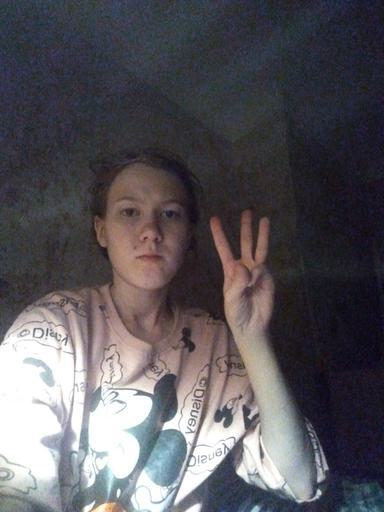three: (208, 208, 280, 337)
